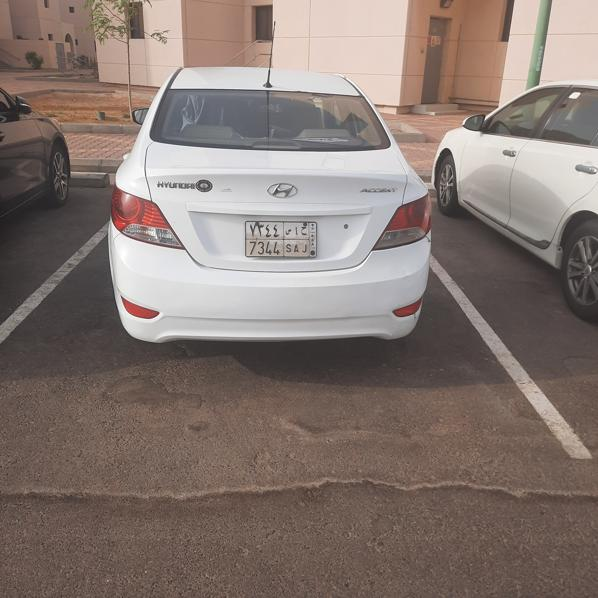numberplate: (246, 221, 320, 259)
